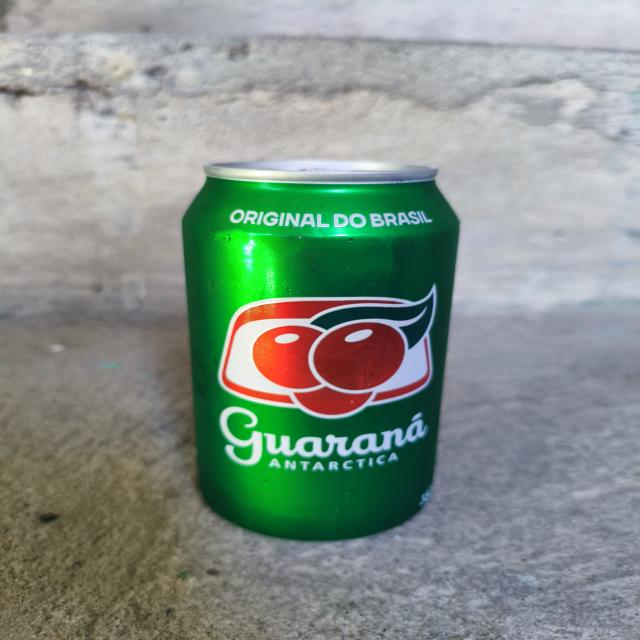Guarana: (173, 147, 483, 548)
